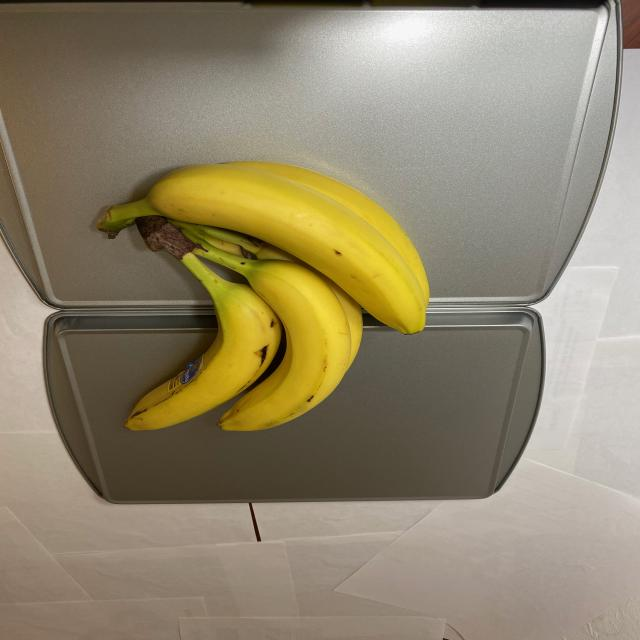banana: (110, 163, 433, 434)
